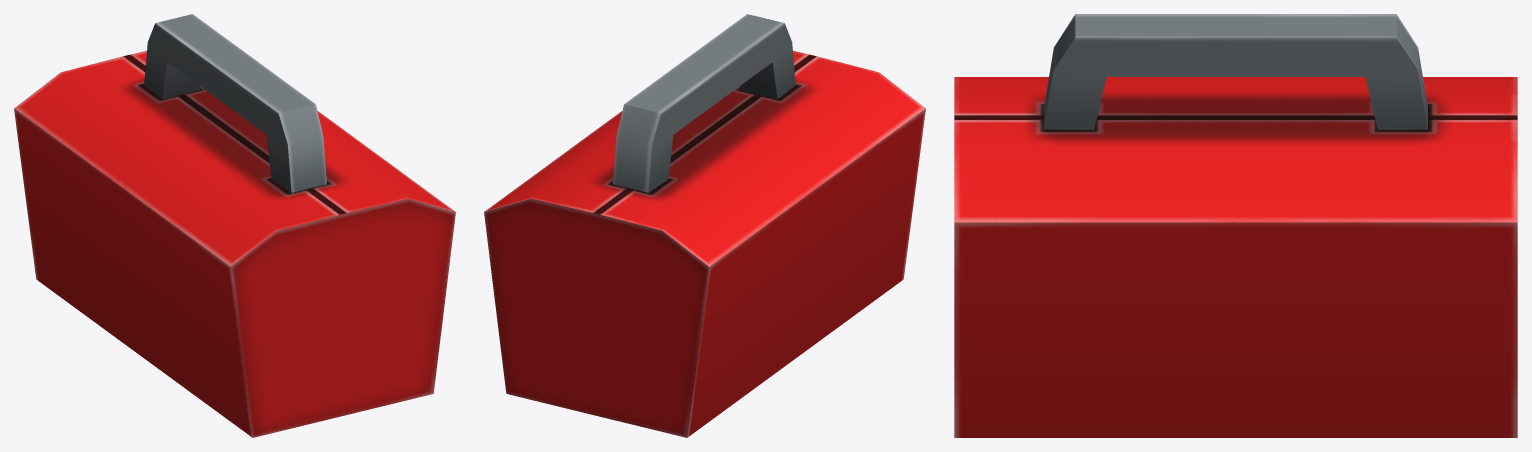
File: item_repair_box.FBX
3 views of the same model, side by side, from view 1: azimuth 30°, elevation 25°; view 2: azimuth 150°, elevation 25°; view 3: azimuth 270°, elevation 25° (orthographic). The views are drawn at different scales.
Visible parts, largest first — view 1: item_repair_box; view 2: item_repair_box; view 3: item_repair_box.
Part boxes in pixels (x1,y1,x2,y2): item_repair_box: (14, 14, 455, 437); item_repair_box: (484, 14, 925, 437); item_repair_box: (954, 14, 1517, 437).
Size of the model in its own units: 0.0922 by 0.1067 by 0.1534.
